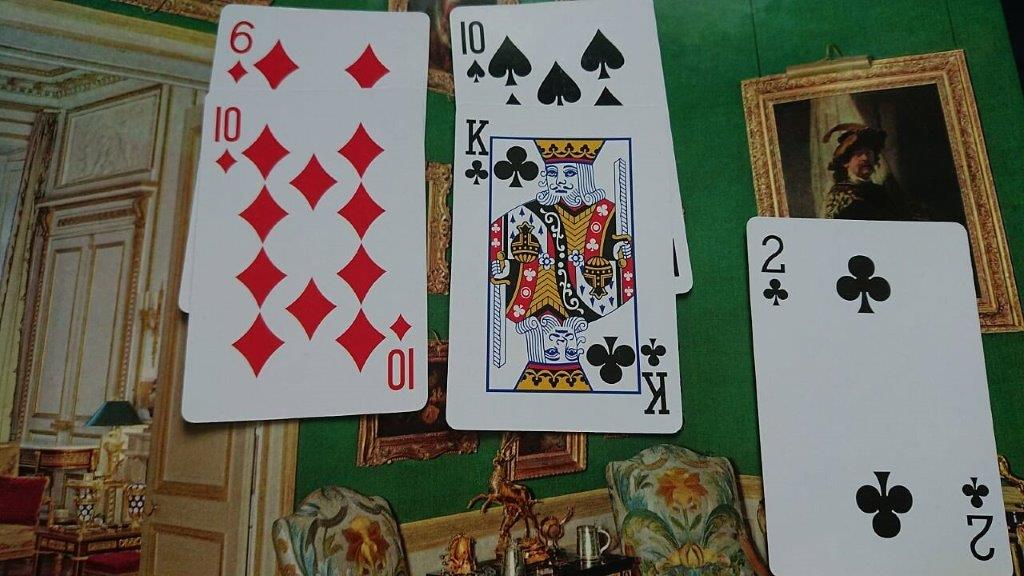10D: (209, 101, 244, 178)
10S: (455, 16, 487, 86)
2C: (757, 231, 791, 310)
6D: (223, 16, 256, 88)
KC: (460, 114, 493, 188)
